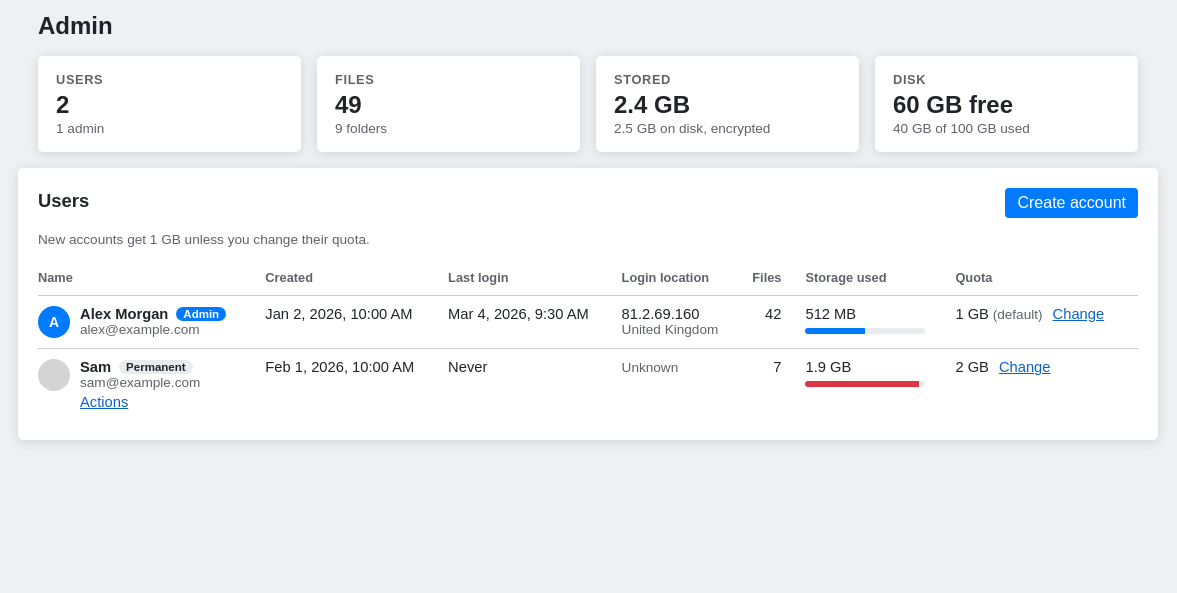
Admin page › row actions › lists set password, permanent and delete for another user
Click the button with aria-label "Actions for sam@example.com".
click(104, 402)  # box [80,394,128,410]
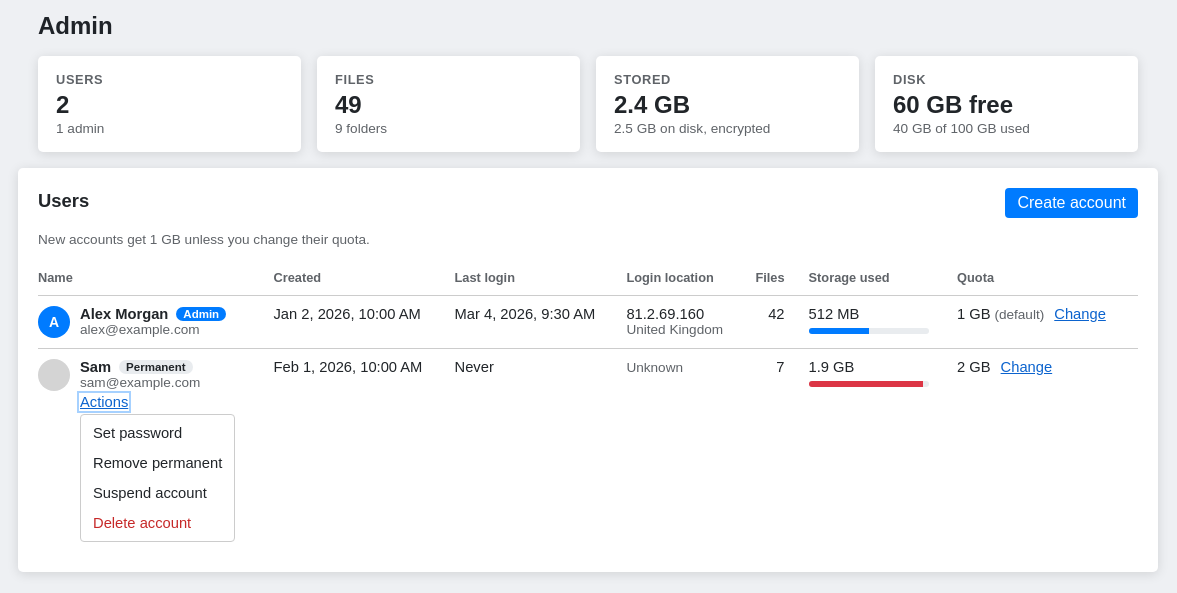
Now the menu item "Set password" is shown, box [85,419,190,447]
Now the menu item "Remove permanent" is shown, box [85,449,230,477]
Now the menu item "Delete account" is shown, box [85,509,199,537]
